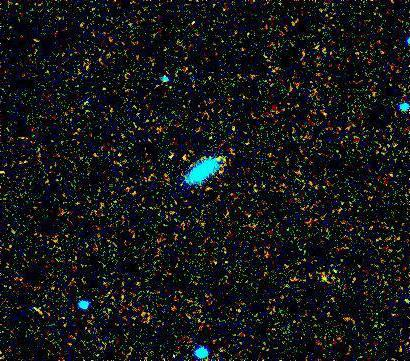star: (170, 143, 200, 173)
